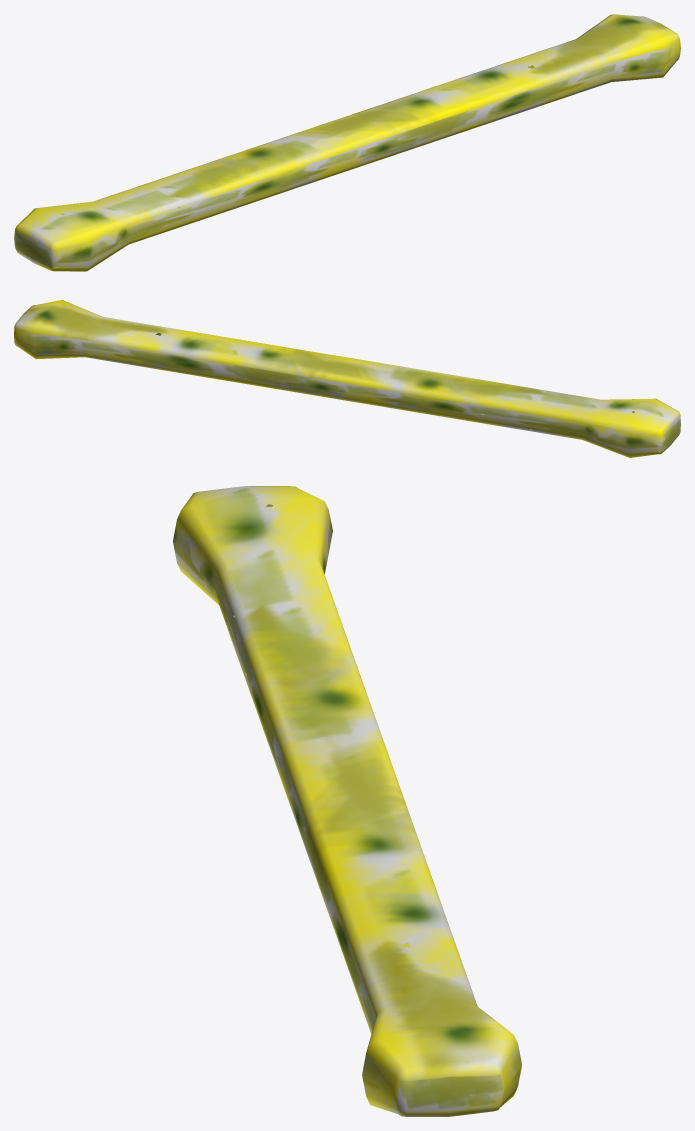
File: AsterionellaFormos_single.FBX
3 views of the same model, one above another, from view 1: azimuth 30°, elevation 25°; view 2: azimuth 150°, elevation 25°; view 3: azimuth 270°, elevation 25° (orthographic). The views are drawn at different scales.
Parts seen in each view (by area): view 1: ChamferBox006; view 2: ChamferBox006; view 3: ChamferBox006.
Boxes of the visible parts, box(x1,y1,x2,y2) form: ChamferBox006: box(14, 14, 680, 271); ChamferBox006: box(14, 300, 680, 457); ChamferBox006: box(173, 486, 521, 1116).
Bounding box in the file's own units: 105 × 6.42 × 26.34.
1 material, 1 textured.
